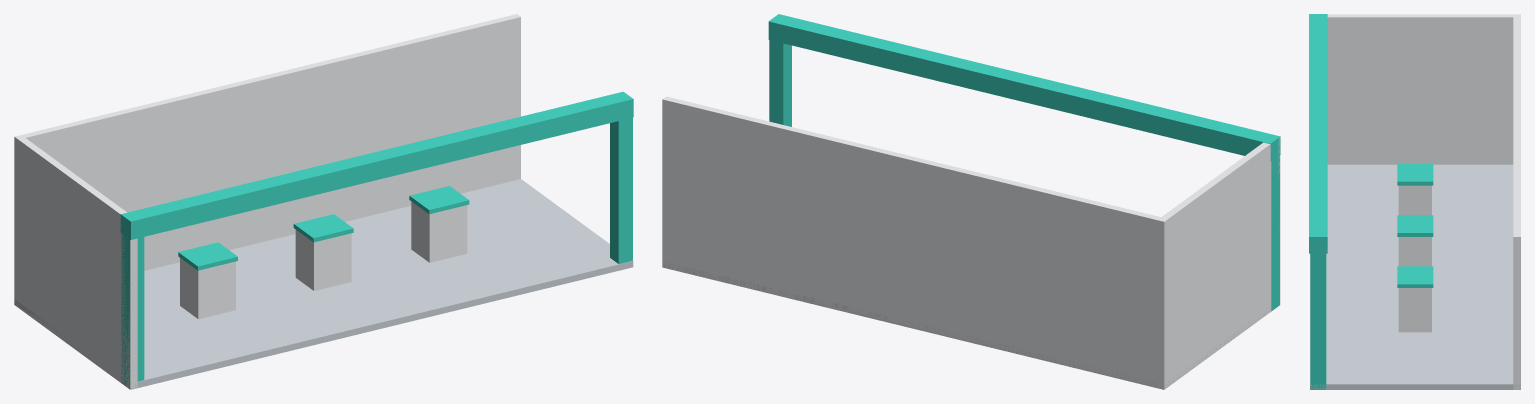
The picture shows the model from 3 angles, left to right: view 1: azimuth 30°, elevation 25°; view 2: azimuth 150°, elevation 25°; view 3: azimuth 270°, elevation 25°; orthographic projection. The views are drawn at different scales.
Visible parts, largest first — view 1: Exhibition Booth Concept; view 2: Exhibition Booth Concept; view 3: Exhibition Booth Concept.
Boxes of the visible parts, box(x1,y1,x2,y2) form: Exhibition Booth Concept: box(14, 14, 633, 389); Exhibition Booth Concept: box(662, 14, 1280, 389); Exhibition Booth Concept: box(1309, 14, 1520, 389).
Size of the model in its own units: 10 by 3.2 by 4.02.
